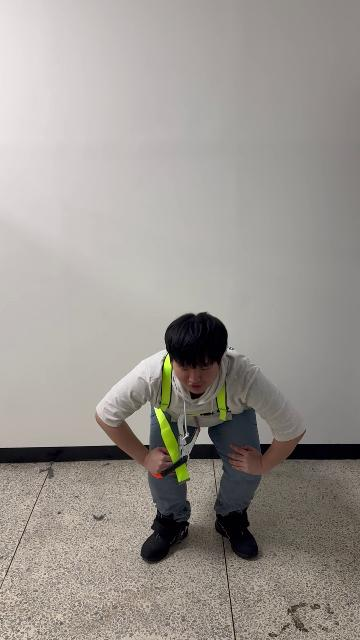helmet_not_worn: (164, 311, 232, 368)
shoe_worn: (140, 511, 189, 562), (215, 509, 257, 559)
vest_worn: (150, 349, 232, 484)
